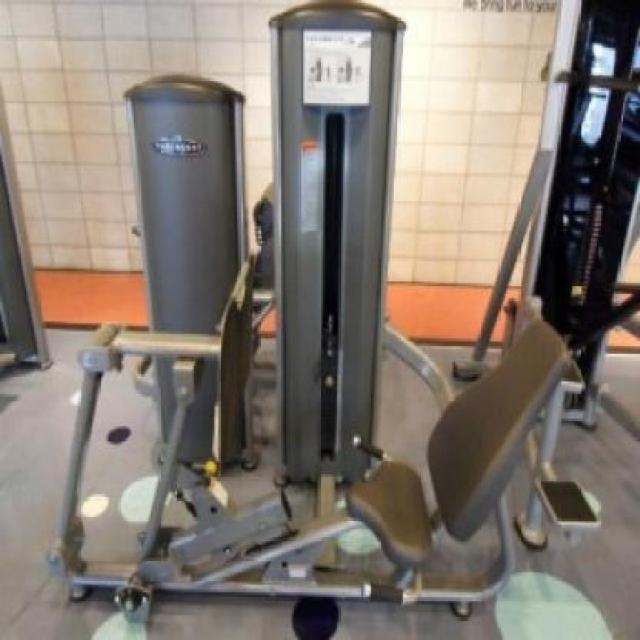leg press: (55, 0, 640, 640)
